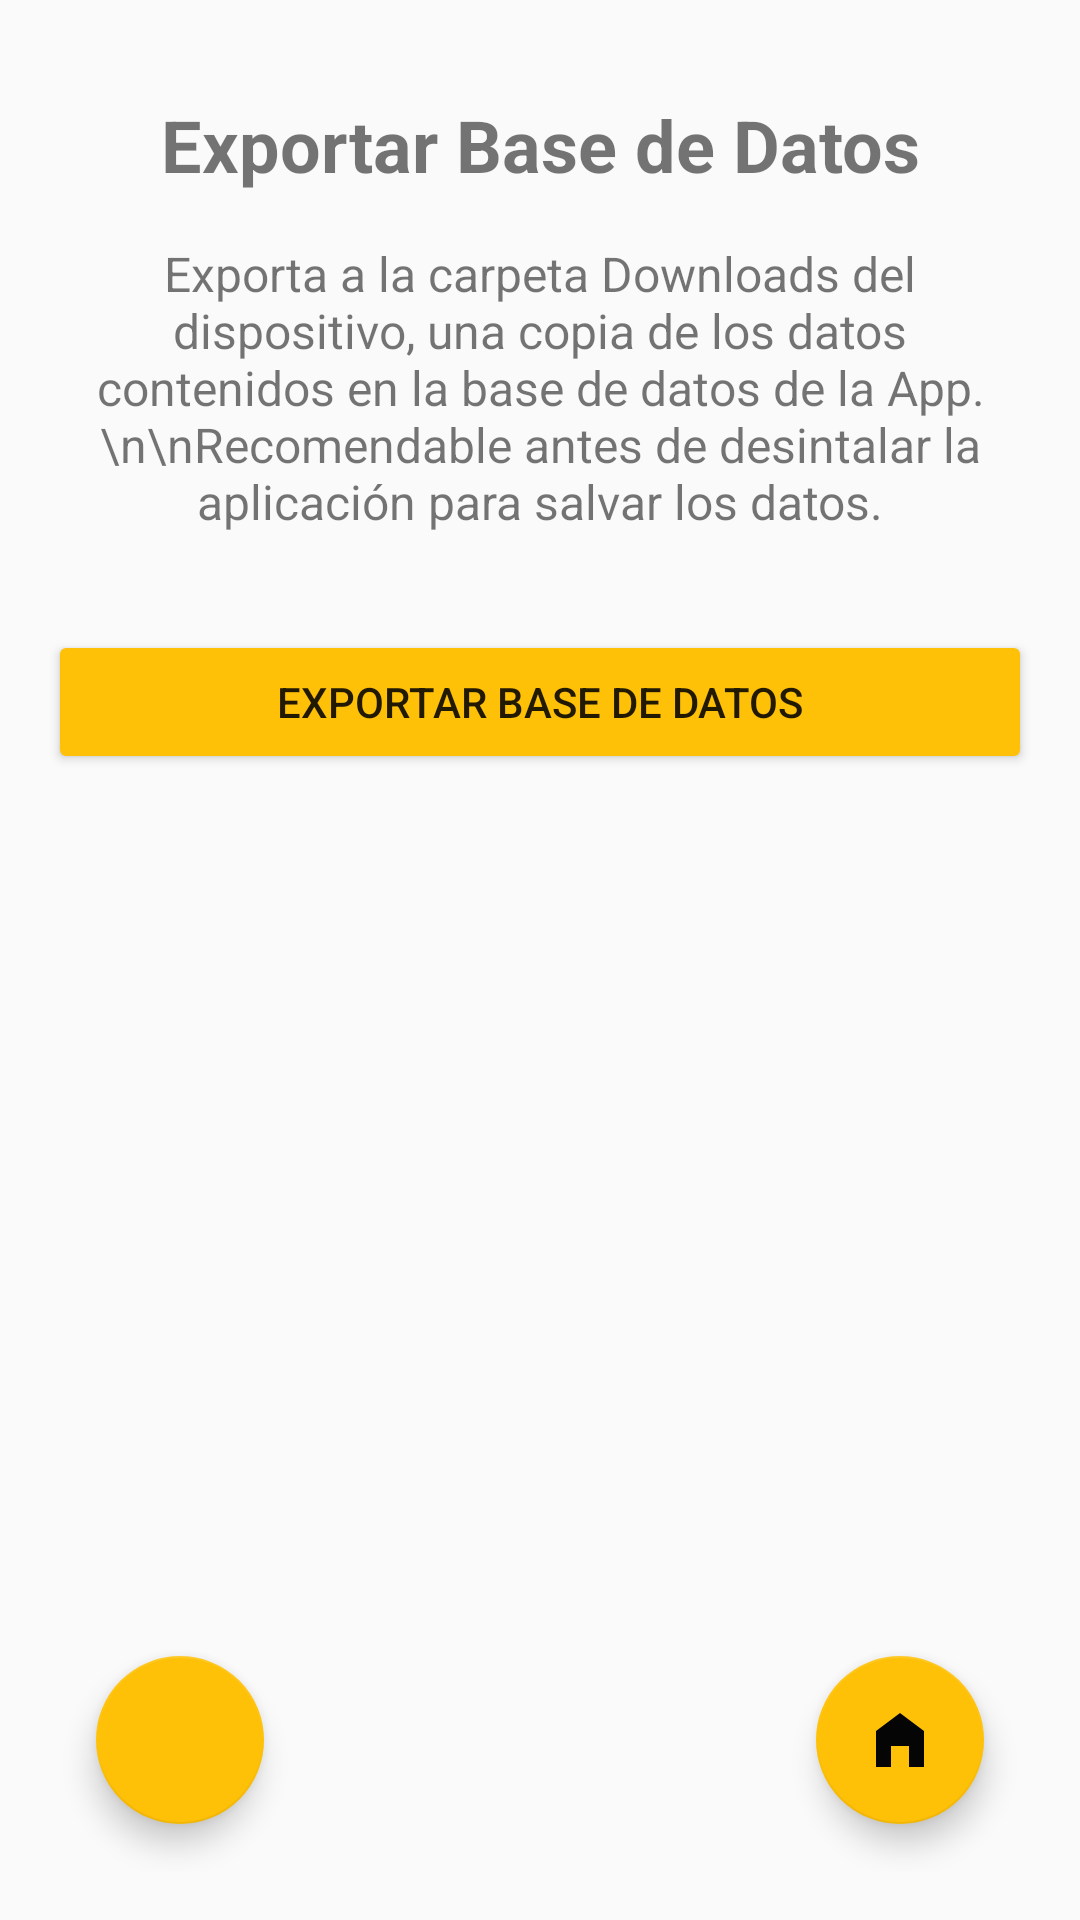

Screen size 1080px x 1920px. Icon name, then its center in pixels as (x,y):
home: (900,1740)
